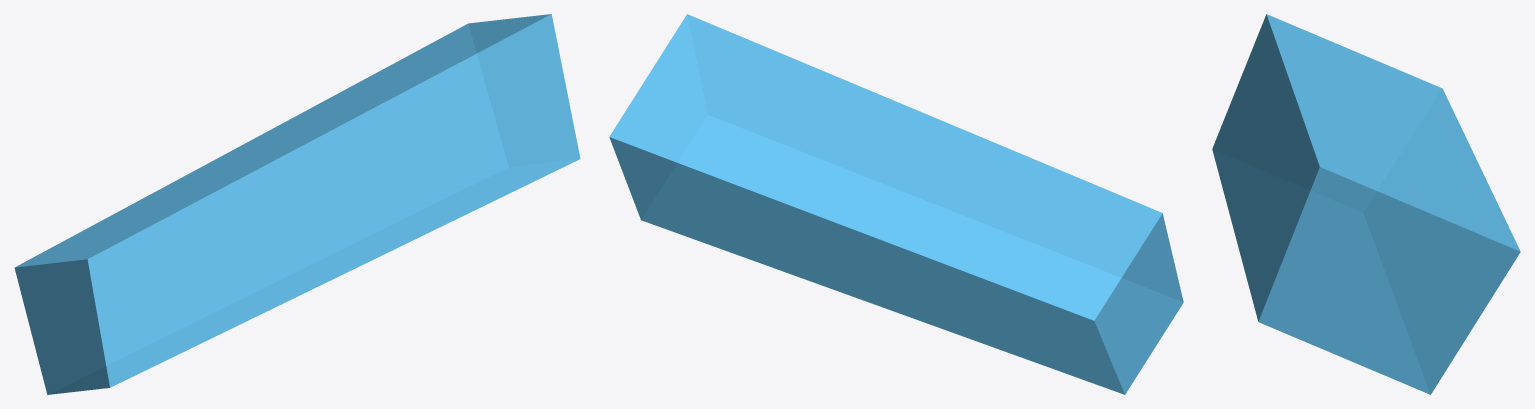
File: Event_421115418_HErechit_56.fbx
3 renders of one model, left to right at view 1: azimuth 30°, elevation 25°; view 2: azimuth 150°, elevation 25°; view 3: azimuth 270°, elevation 25°, orthographic. The views are drawn at different scales.
Parts seen in each view (by area): view 1: Model; view 2: Model; view 3: Model.
Boxes of the visible parts, x1,y1,x2,y2 form: Model: (14, 14, 580, 394); Model: (609, 14, 1183, 394); Model: (1212, 14, 1520, 394).
Size of the model in its own units: 1.43 by 0.7715 by 0.6498.
